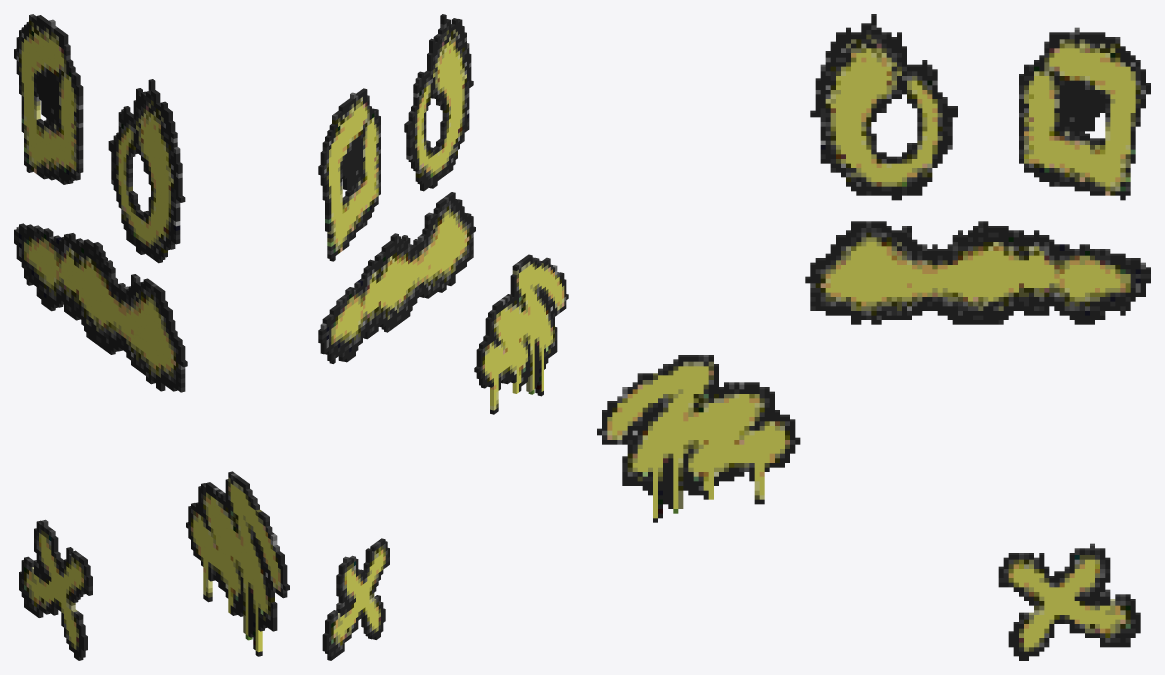
The model's file is arcade_machine_modified-0-image.obj.
3 renders of one model, left to right at view 1: azimuth 30°, elevation 25°; view 2: azimuth 150°, elevation 25°; view 3: azimuth 270°, elevation 25°, orthographic. The views are drawn at different scales.
Visible parts, largest first — view 1: image; view 2: image; view 3: image.
Part boxes in pixels (left/top/right/bottom): image: left=14, top=14, right=289, bottom=660; image: left=318, top=14, right=568, bottom=660; image: left=597, top=14, right=1150, bottom=660.
Size of the model in its own units: 0.1 by 14 by 10.9.
1 material, 1 textured.
